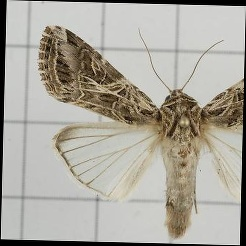Spodoptera litura: (34, 27, 243, 239)
